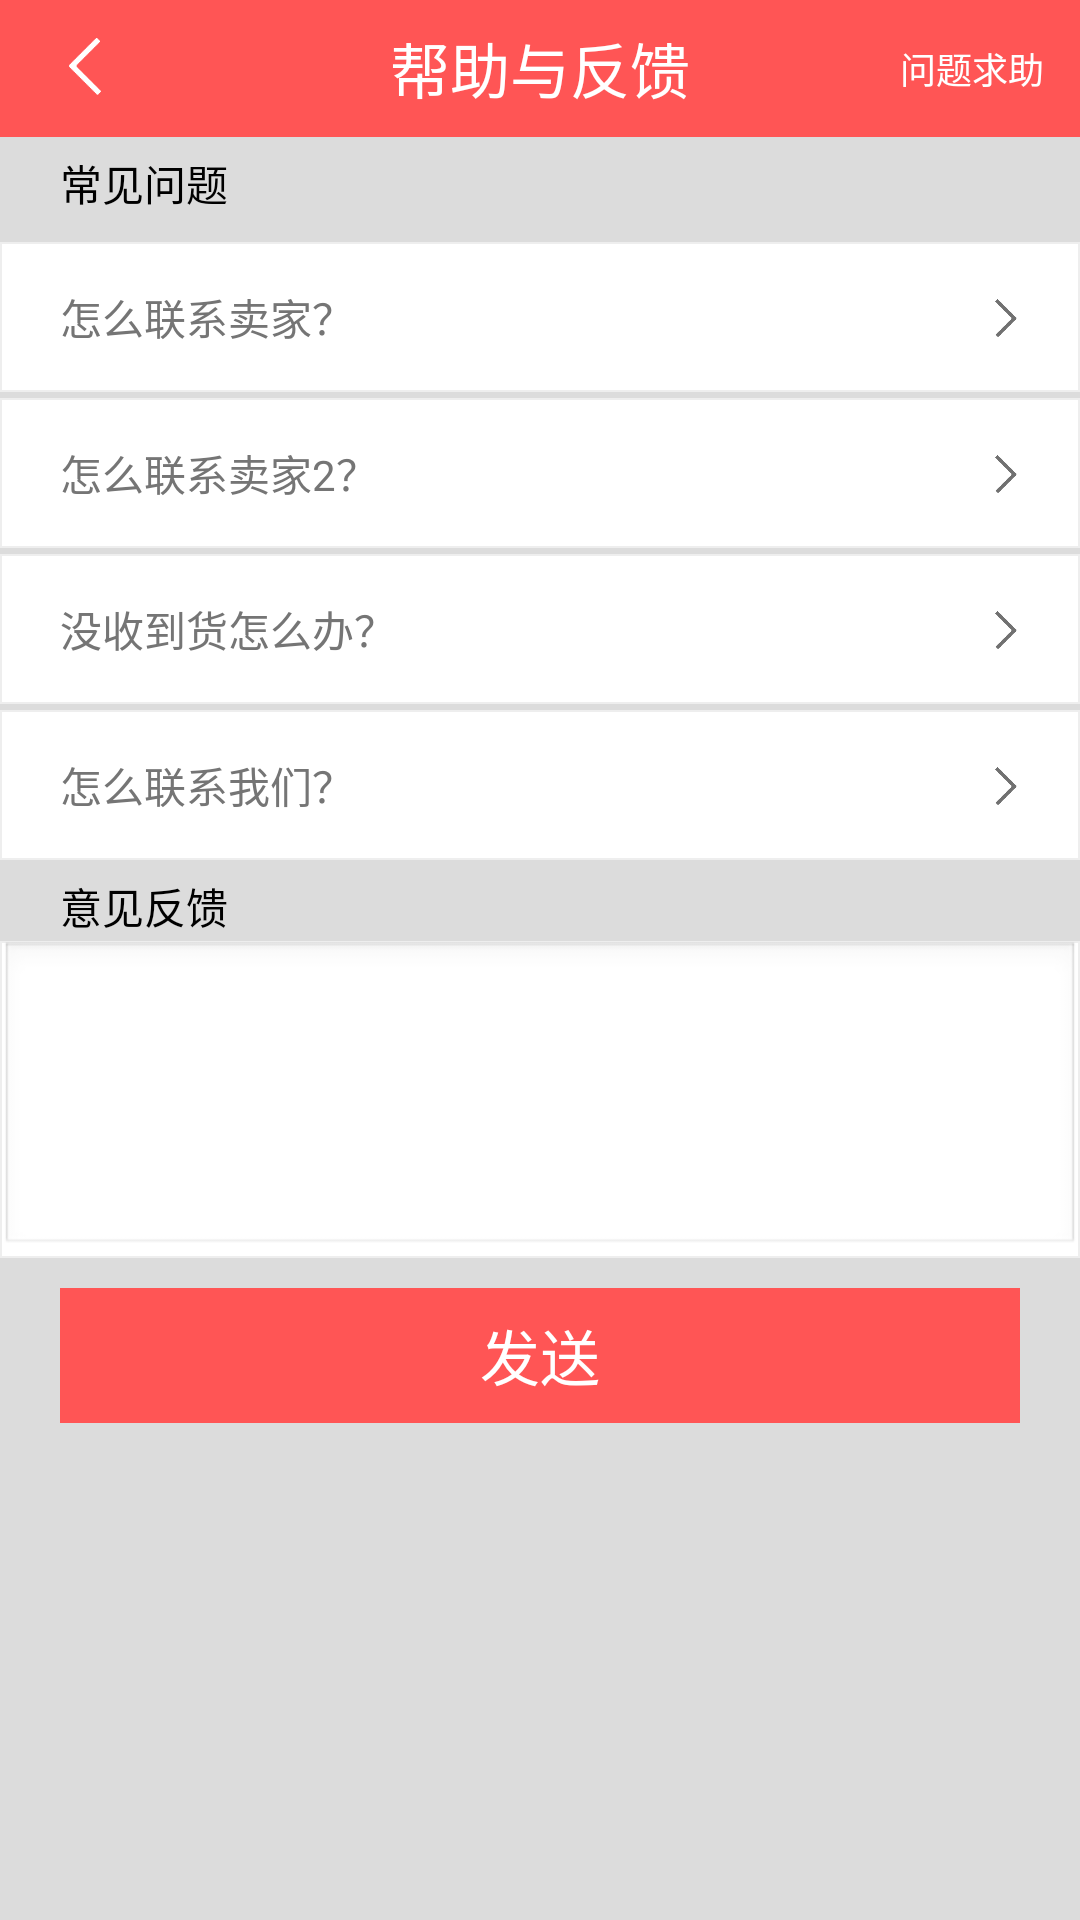

Named icons in this screenshot (1080w x 1920h) and their bounding boxes, (x1, y1, x2, y2):
jiantou: (995, 299, 1017, 337), (995, 455, 1017, 493), (995, 611, 1017, 649), (995, 767, 1017, 805)
jiantou left: (69, 38, 101, 95)
